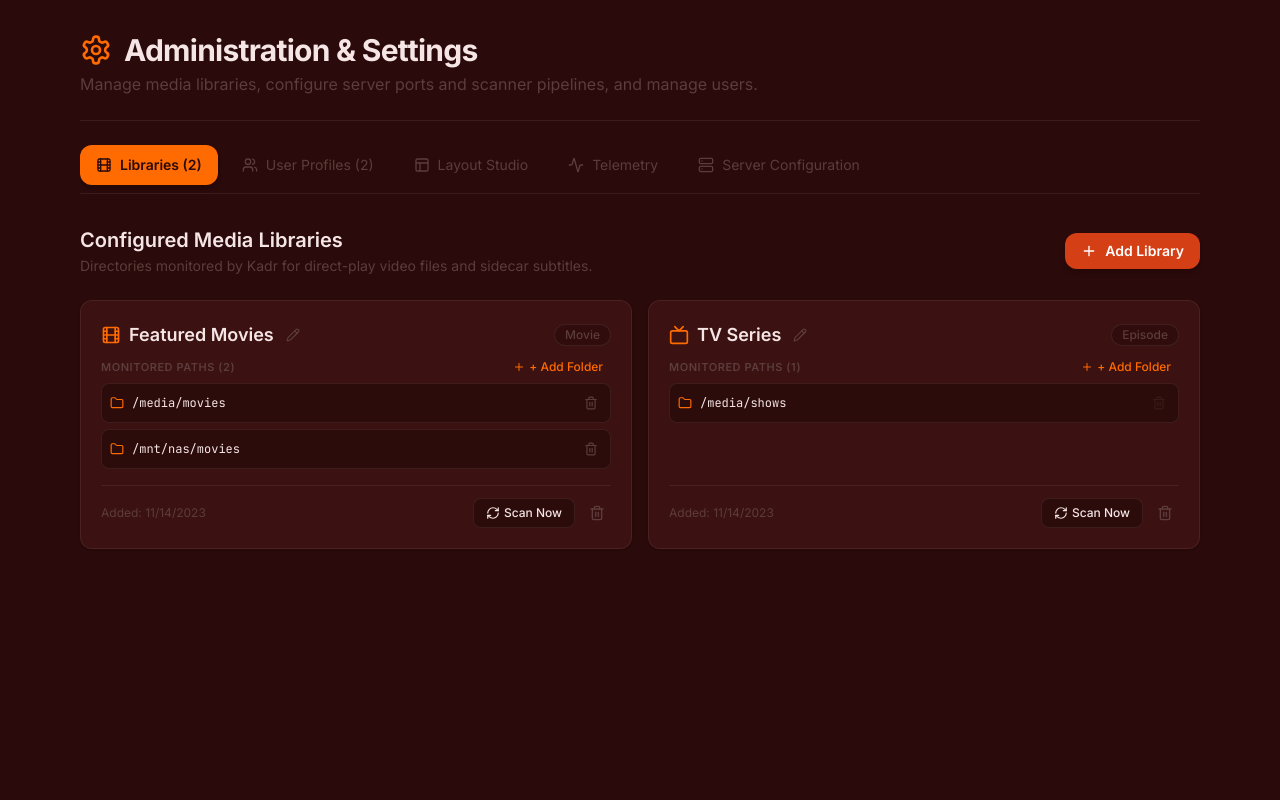
AdminDashboard Component › renders "+ Add Server Folder" button instead of text input in Add Library modal
Expected: the heading "Featured Movies" is shown, left=129, top=321, right=274, bottom=349
Click the button "Add Library" at (1133, 251), box left=1065, top=233, right=1200, bottom=269
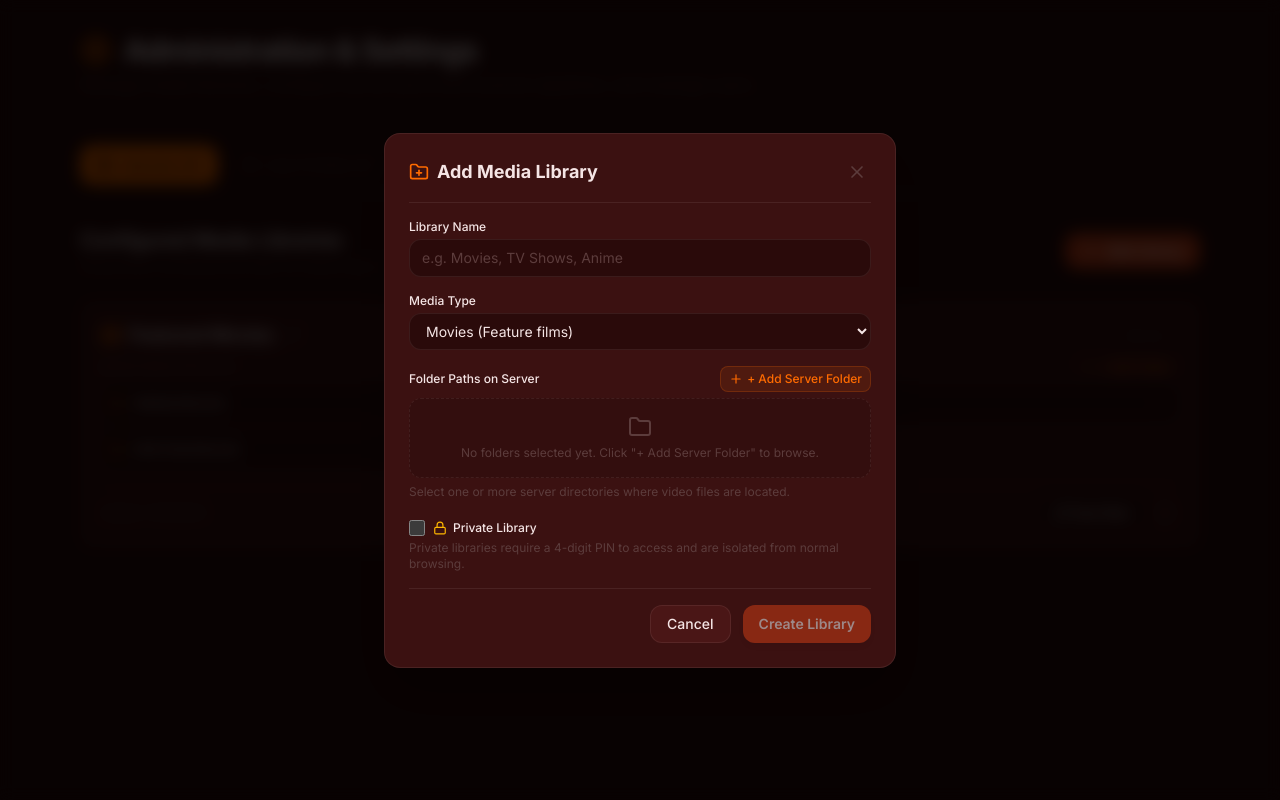
Expected: the heading "Add Media Library" is shown, left=409, top=158, right=598, bottom=186
Expected: the button "+ Add Server Folder" is shown, left=720, top=366, right=871, bottom=392
